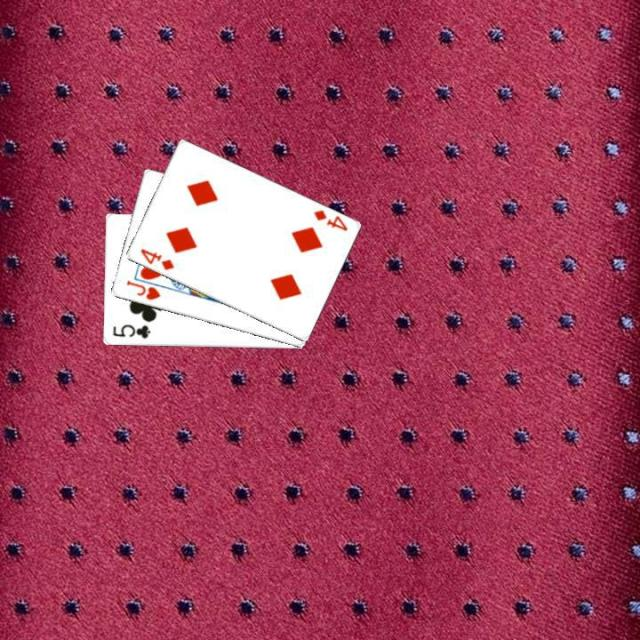4D: (310, 205, 350, 233), (136, 244, 175, 272)
5C: (109, 321, 151, 340)
JH: (122, 276, 162, 302)
